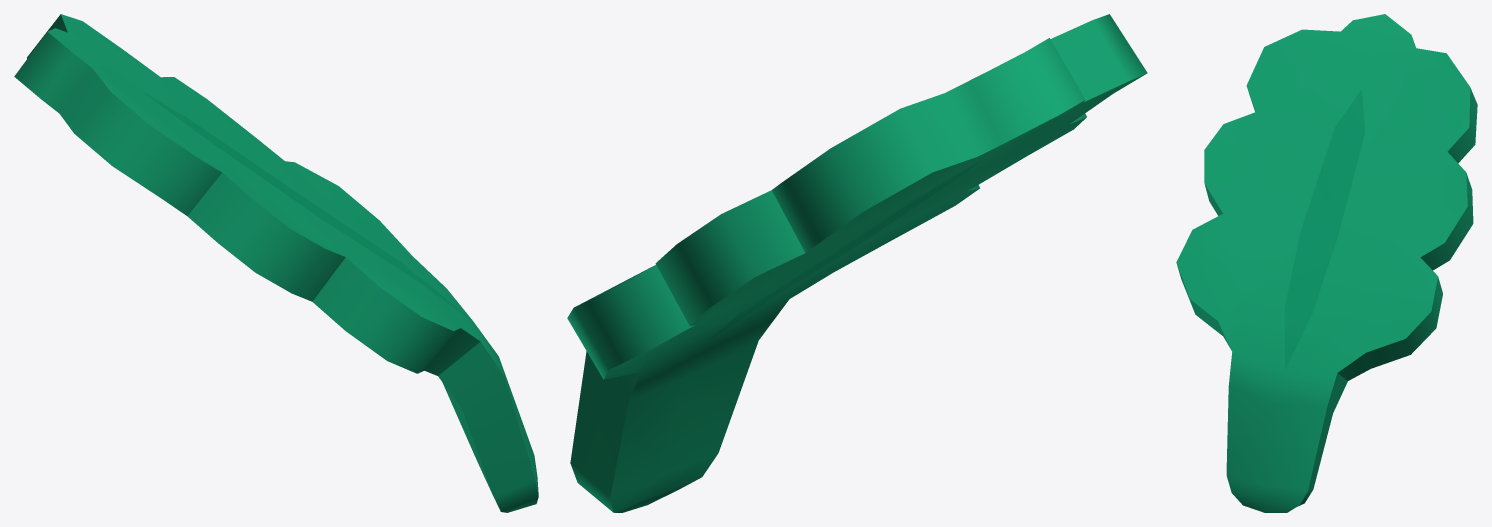
Rendered from CarrotLeaf2.fbx.
3 renders of one model, left to right at view 1: azimuth 30°, elevation 25°; view 2: azimuth 150°, elevation 25°; view 3: azimuth 270°, elevation 25°, orthographic. The views are drawn at different scales.
Parts seen in each view (by area): view 1: CarrotPlant2A_Leaf2; view 2: CarrotPlant2A_Leaf2; view 3: CarrotPlant2A_Leaf2.
Part boxes in pixels (x1,y1,x2,y2): CarrotPlant2A_Leaf2: (14, 14, 538, 512); CarrotPlant2A_Leaf2: (567, 14, 1147, 512); CarrotPlant2A_Leaf2: (1176, 14, 1477, 512).
Bounding box in the file's own units: 12.79 × 14.01 × 10.52.
